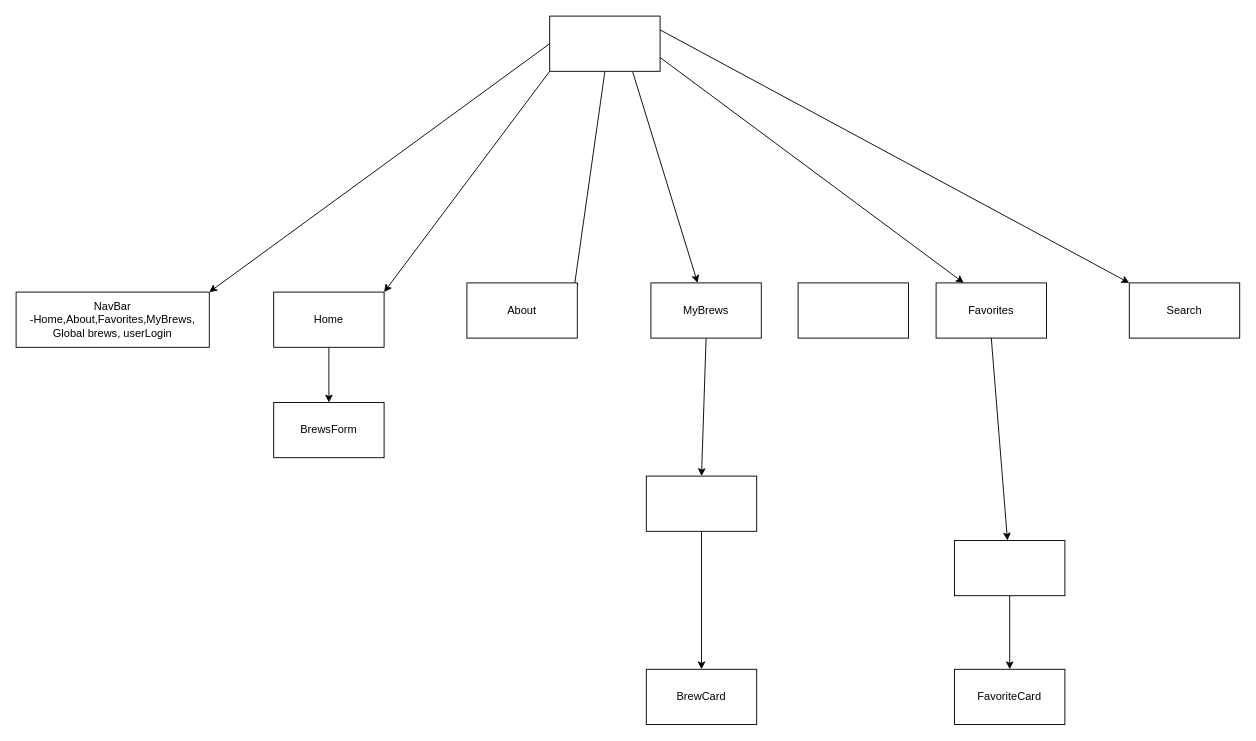
The diagram is 1256 pixels wide and 741 high, and some of its shapes have lost their labels. Each missing label, with the box of its shape:
App: (549, 15, 660, 71)
BrewsList: (645, 475, 757, 531)
FavoriteList: (954, 540, 1065, 596)
GlobalBrews: (797, 282, 908, 338)
